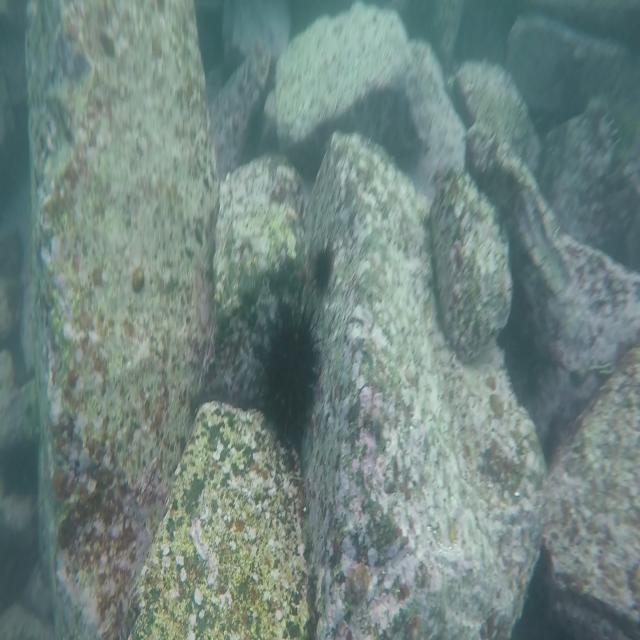echinus: (256, 294, 322, 438)
